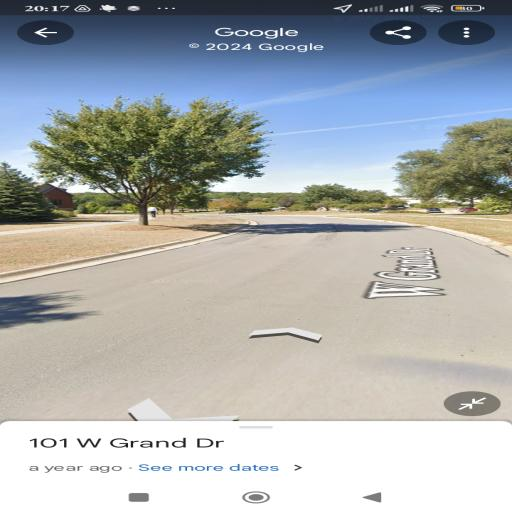Roads: (11, 209, 495, 397)
Trees: (22, 94, 302, 239), (393, 117, 505, 213)
